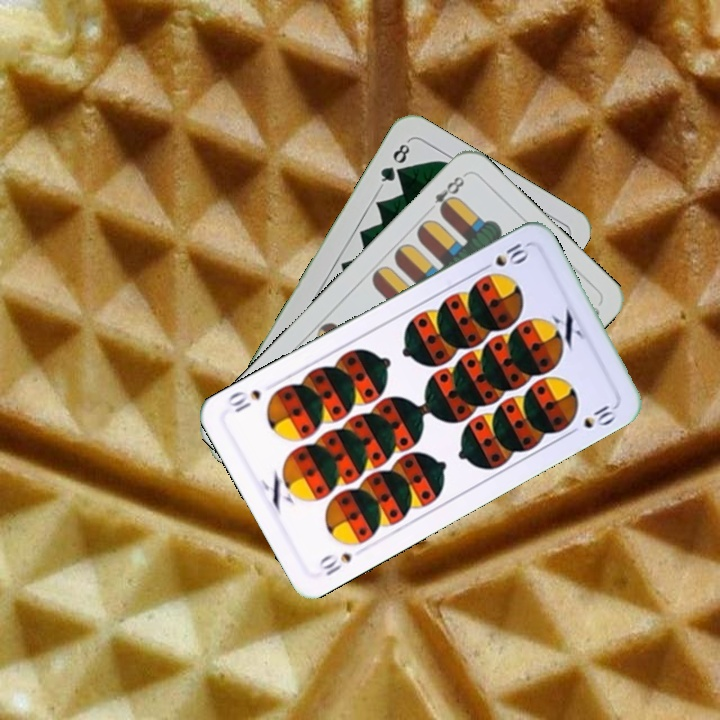E8: (422, 170, 468, 217)
G8: (376, 137, 413, 190)
S10: (476, 239, 532, 274), (315, 548, 354, 579)
